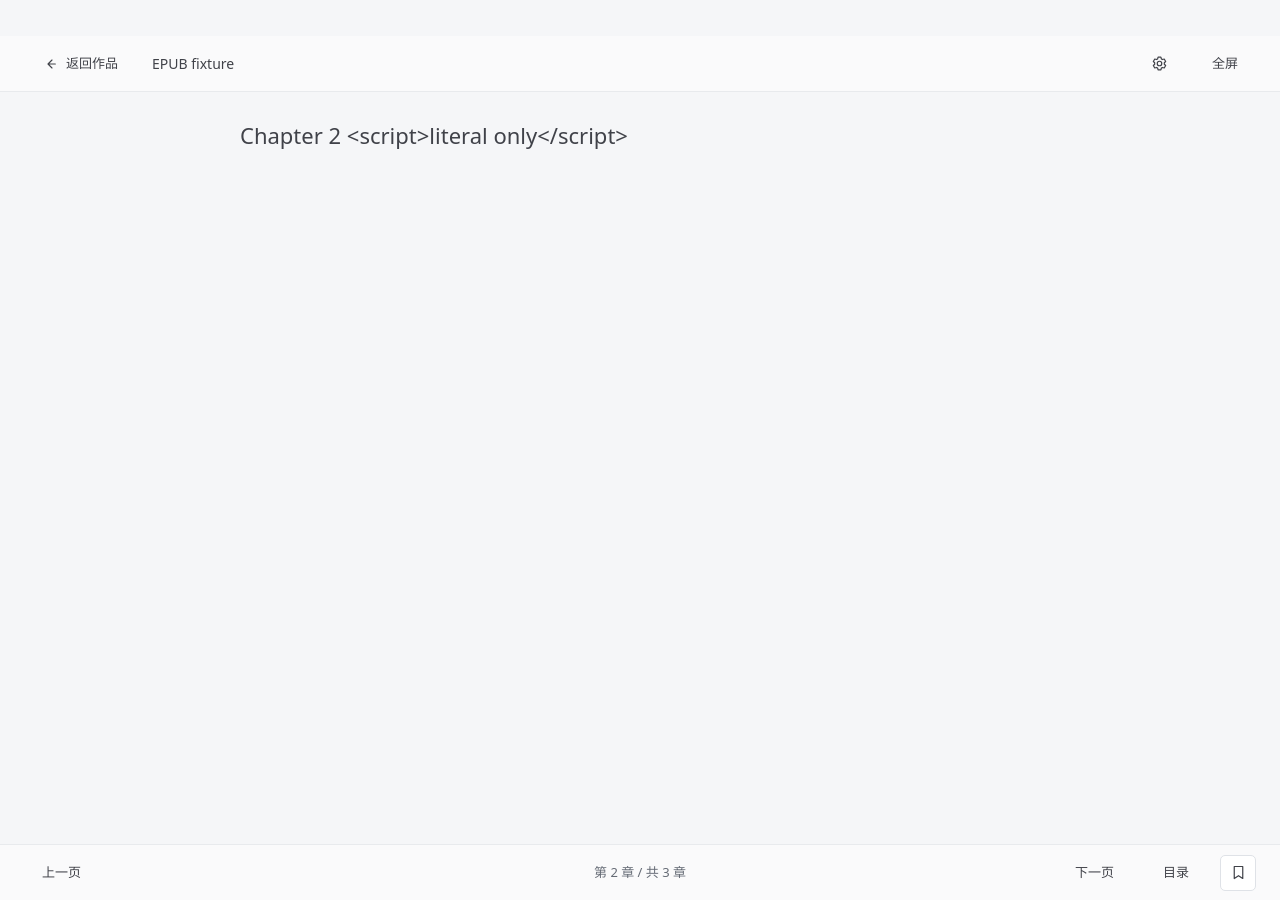
Scenario: local EPUB reader › jumps to a saved chapter from the sole lower bookmark control
Expected: the text "Chapter 2 <script>literal only</script>" is shown, [240, 120, 628, 150]
Click the button named "添加书签". click: (1238, 872)
box: [1220, 854, 1256, 890]
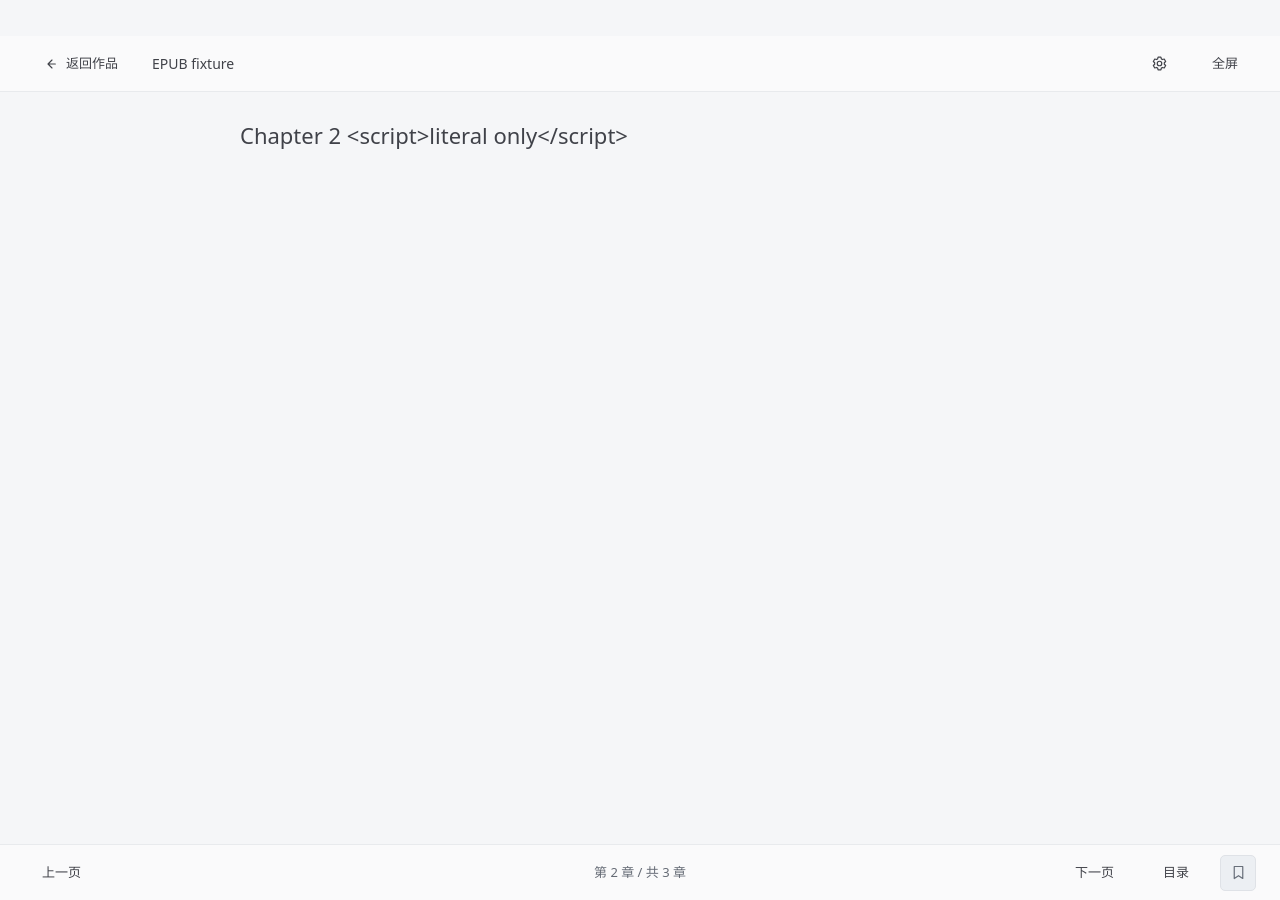
Click the button "目录". click: (1176, 872)
box: [1140, 854, 1212, 890]
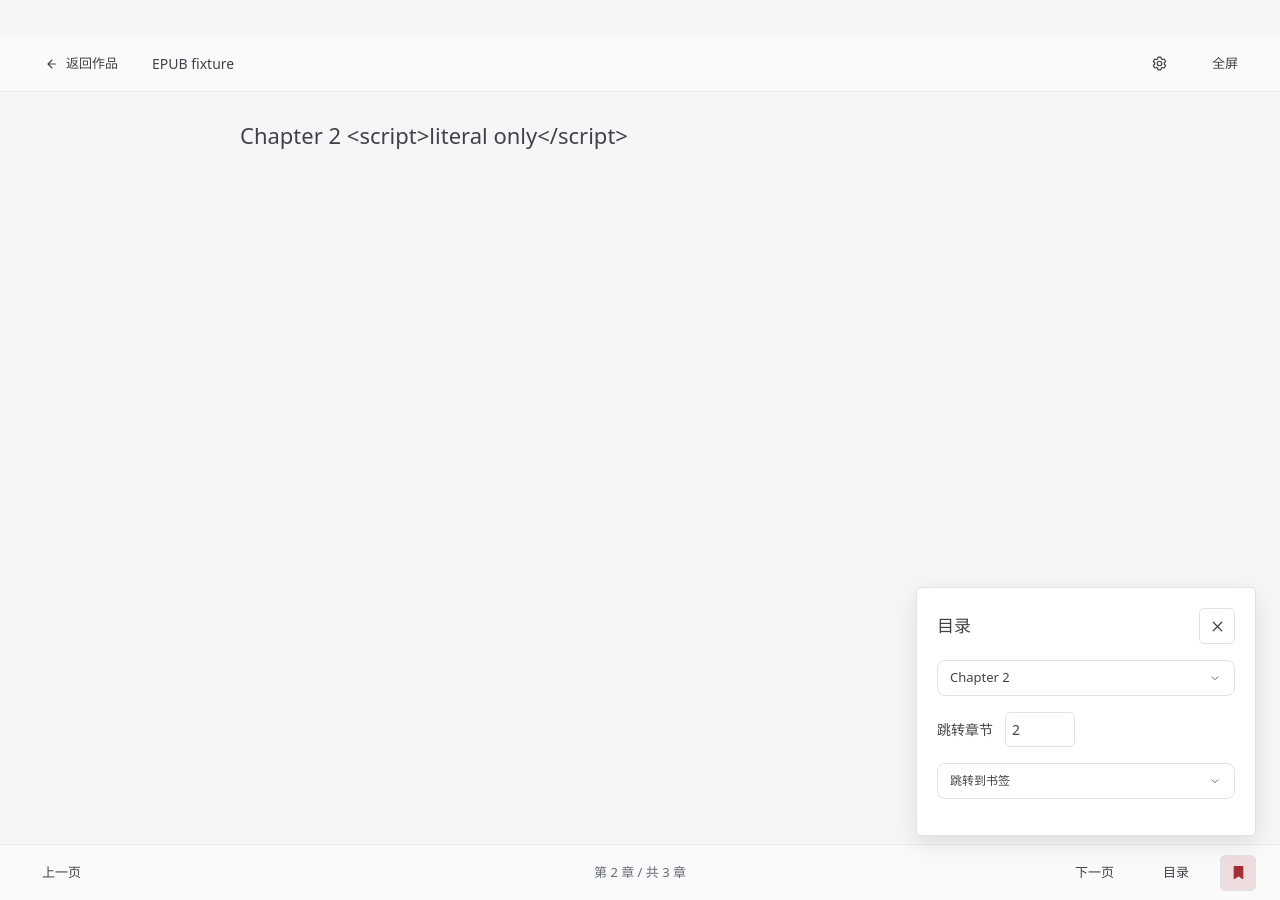
Expected: the dropdown labelled "跳转到书签" is enabled, [937, 763, 1235, 799]
Click the button "下一页". click: (1094, 872)
box: [1057, 854, 1132, 890]
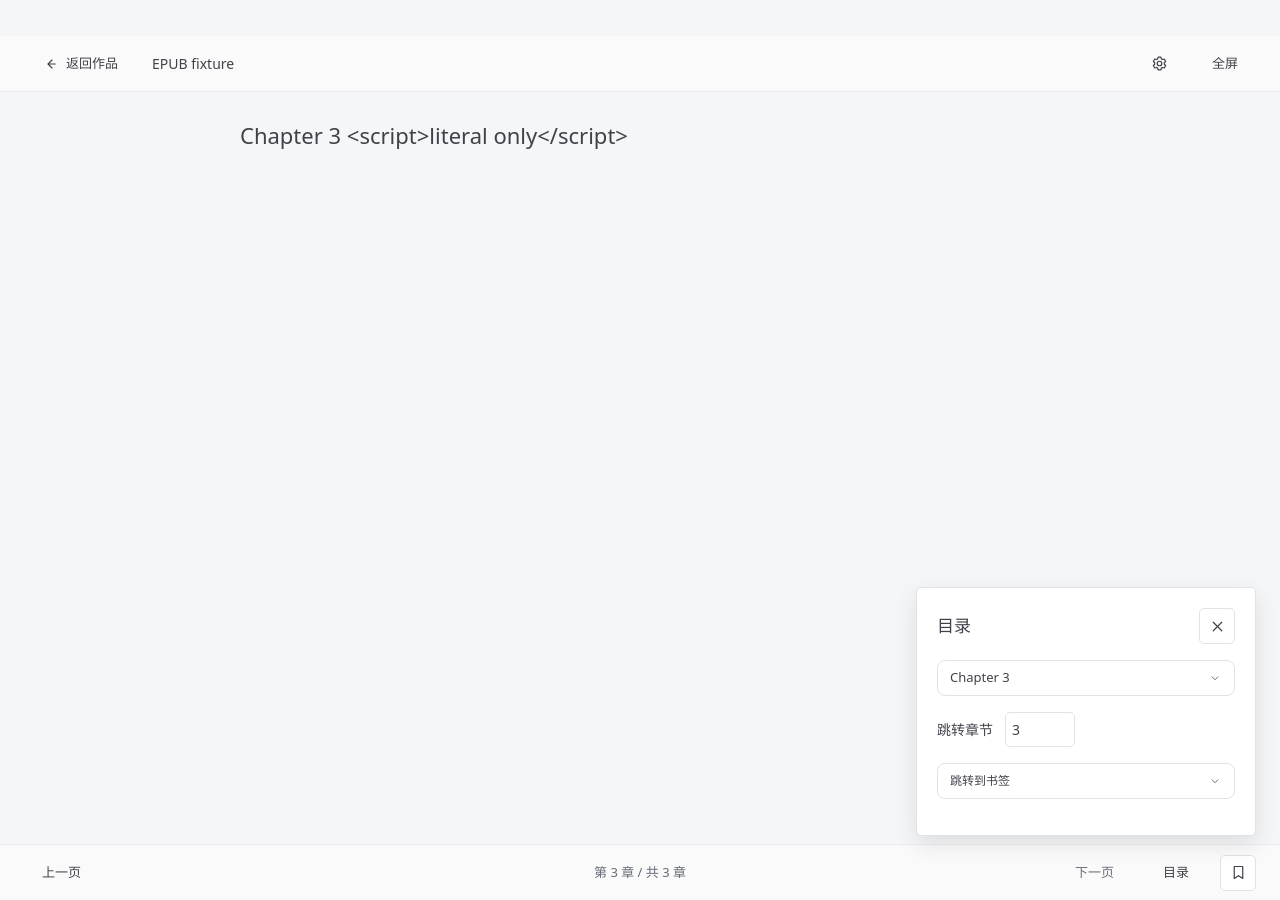
Expected: the text "Chapter 3 <script>literal only</script>" is shown, [240, 120, 628, 150]
Click the dropdown labelled "跳转到书签". click: (980, 780)
box: [937, 763, 1235, 799]
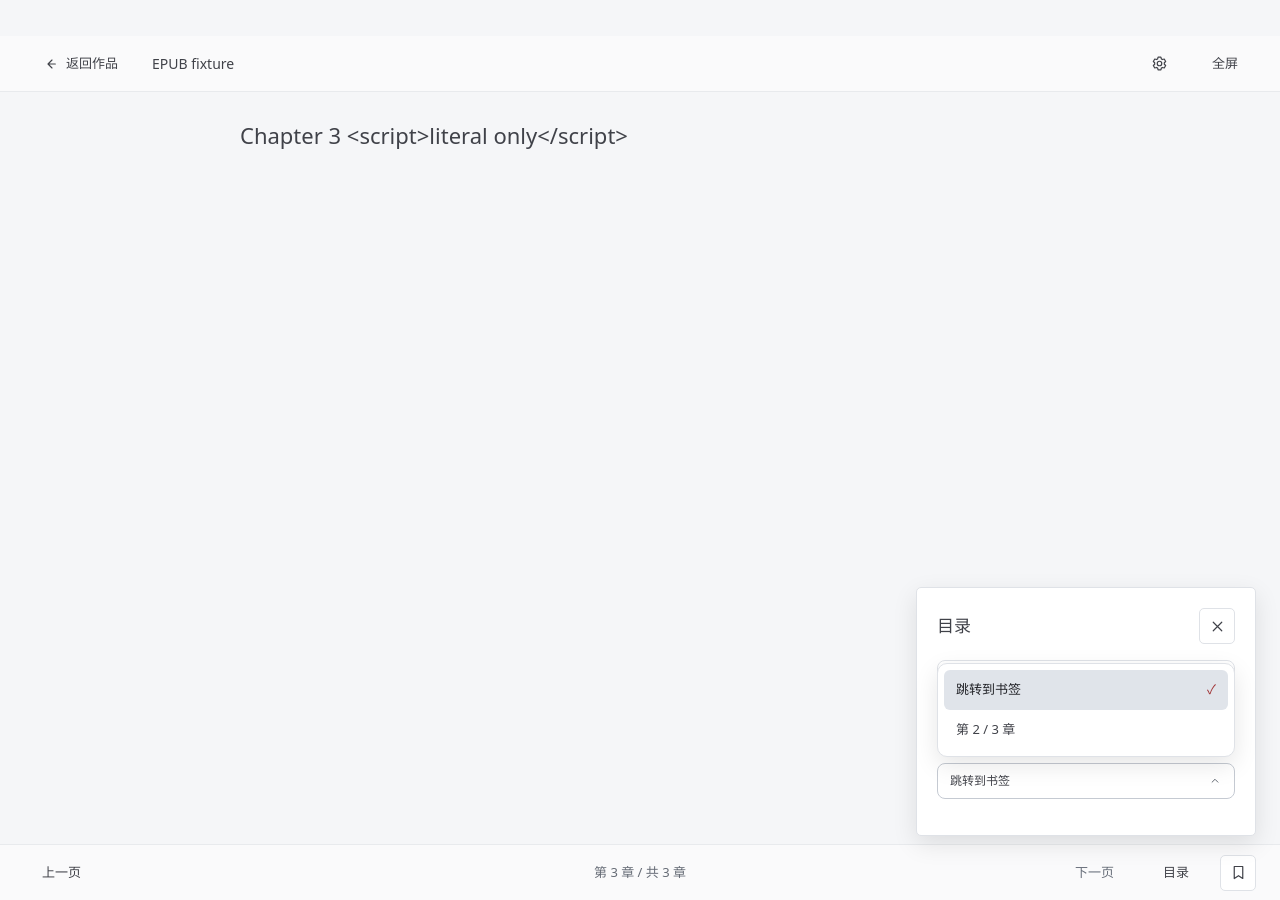
Click the option "第 2 / 3 章". click: (986, 729)
box: [956, 720, 1015, 738]
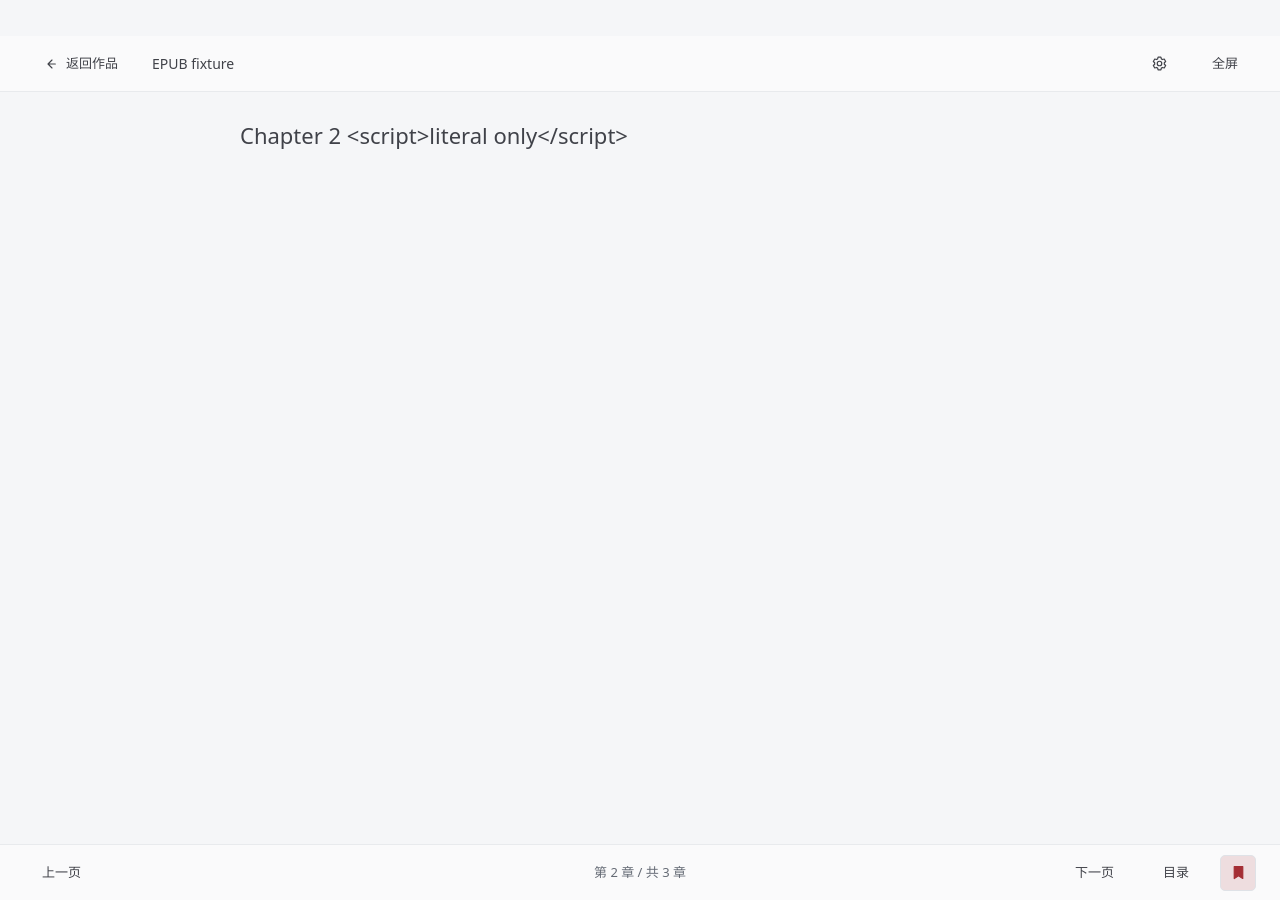
Expected: the text "Chapter 2 <script>literal only</script>" is shown, [240, 120, 628, 150]
